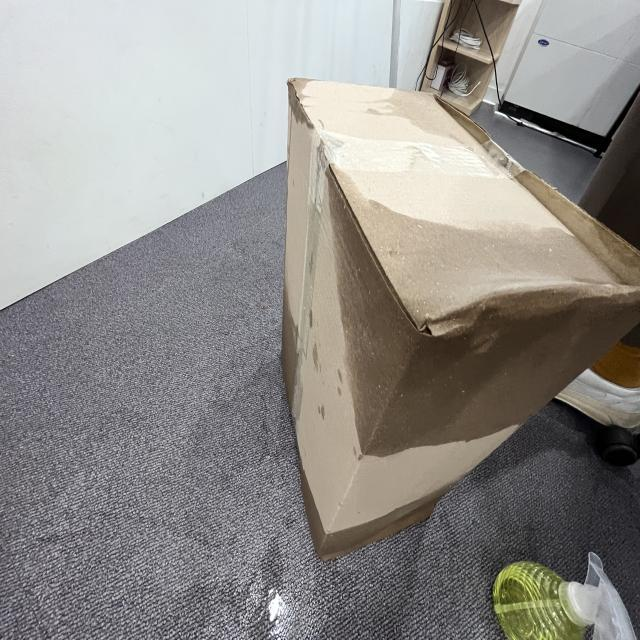wet: (323, 212, 617, 450)
